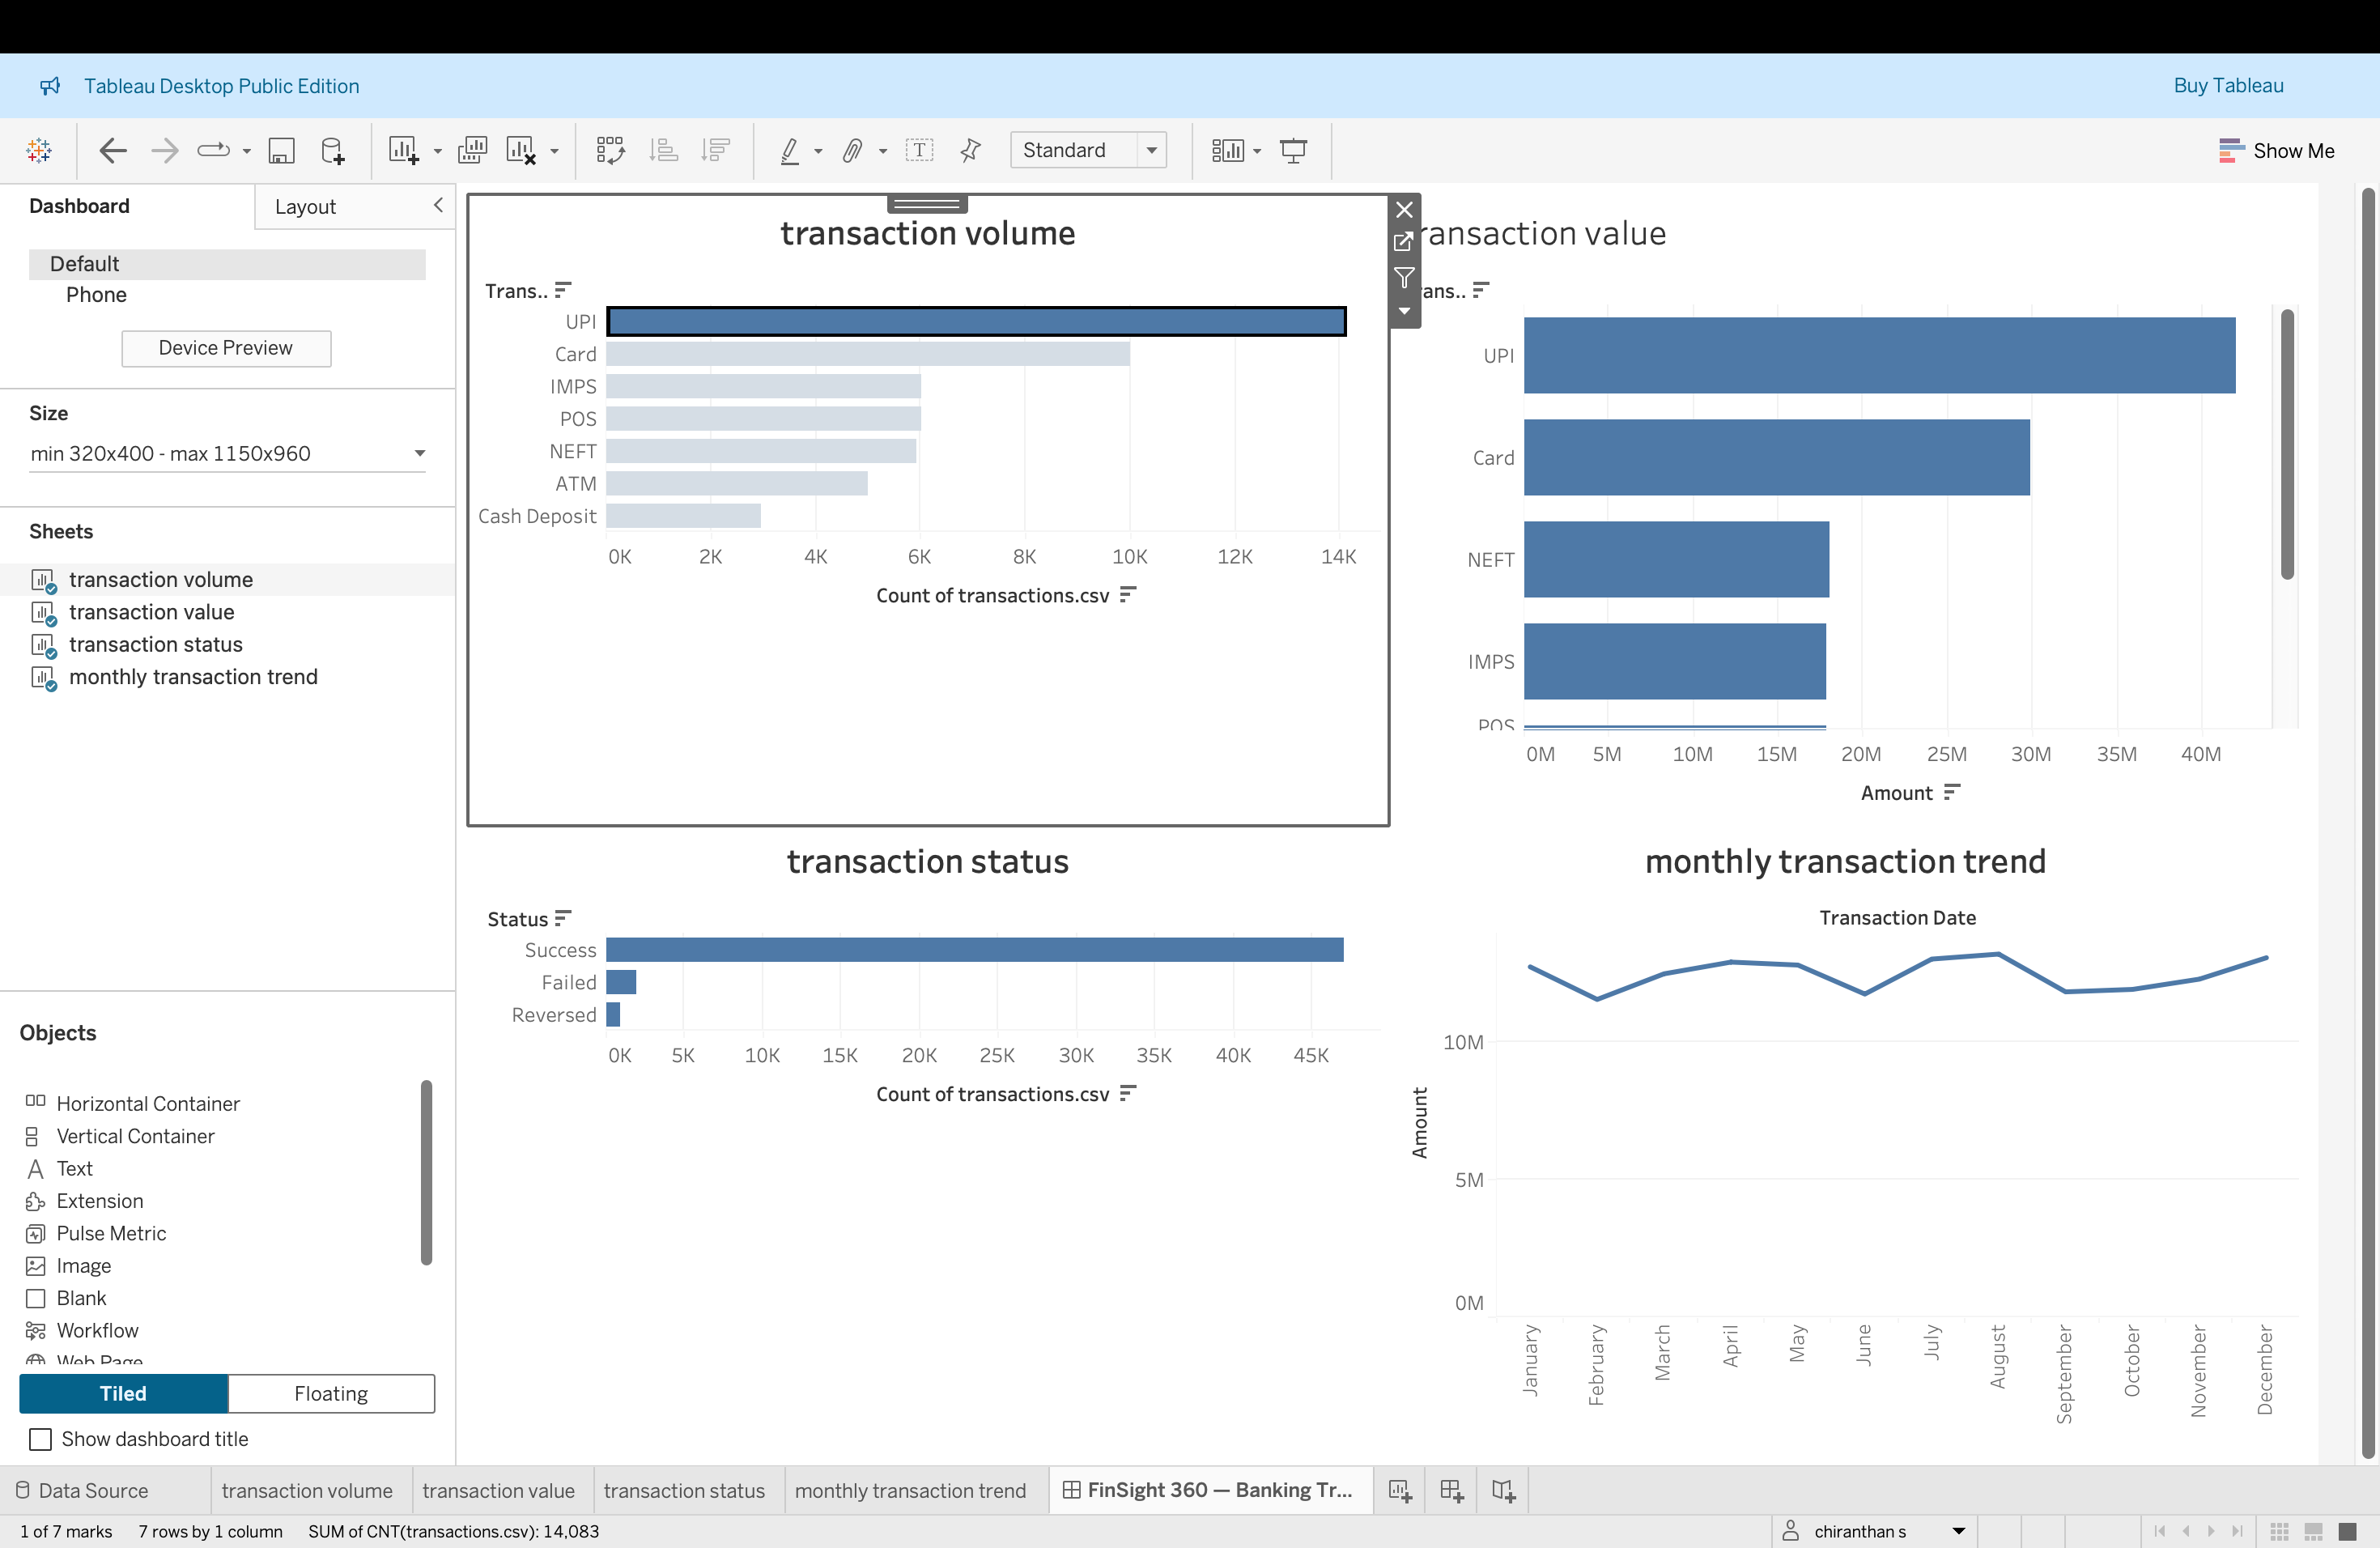

The page's visual inventory and layout, read from the dashboard file:
{"tool":"tableau","page":{"name":"FinSight 360 — Banking Transaction Intelligence","canvas":[1000,1000],"units":"permille","ordinal":0},"visuals":[{"type":"worksheet","title":"transaction volume","mark":"Automatic","rows":["transaction_type"],"cols":["transactions.csv_A911484485784FC28142A47E556B54B3"],"box":[7.9,12.2,492.1,487.8]},{"type":"worksheet","title":"transaction value","mark":"Automatic","rows":["transaction_type"],"cols":["amount"],"box":[500,12.2,492.1,487.8]},{"type":"worksheet","title":"transaction status","mark":"Automatic","rows":["status"],"cols":["transactions.csv_A911484485784FC28142A47E556B54B3"],"box":[7.9,500,492.1,487.8]},{"type":"worksheet","title":"monthly transaction trend","mark":"Automatic","rows":["amount"],"cols":["transaction_date"],"box":[500,500,492.1,487.8]}]}

Visuals, with their boxes on the dashboard's canvas, which has no fixed pixel size, in thousandths of its width and height (x1, y1, x2, y2). These are canvas units, not pixel positions in the 2380x1548 screenshot, which may show the page scaled, cropped or inside an application window:
"transaction volume" worksheet: crop(8, 12, 500, 500)
"transaction value" worksheet: crop(500, 12, 992, 500)
"transaction status" worksheet: crop(8, 500, 500, 988)
"monthly transaction trend" worksheet: crop(500, 500, 992, 988)
